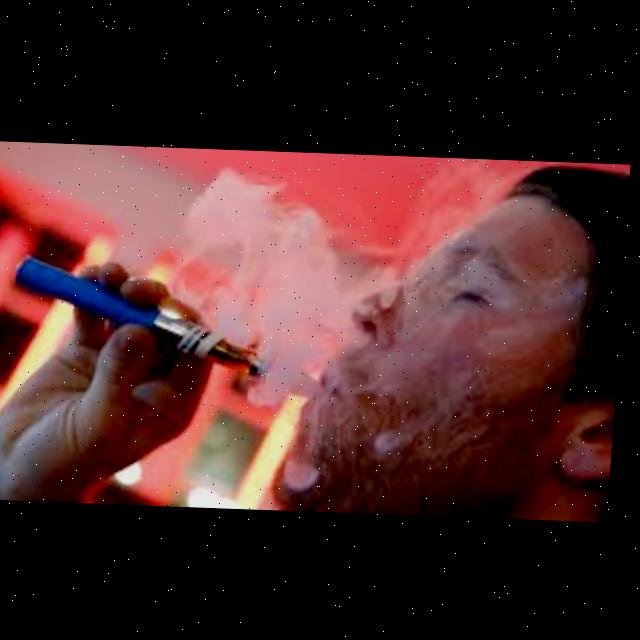vape: (12, 255, 279, 378)
